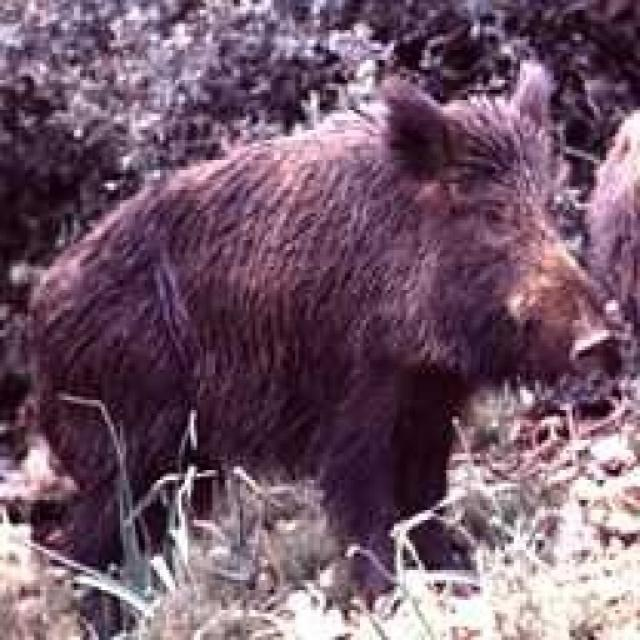pig: (0, 50, 622, 640)
